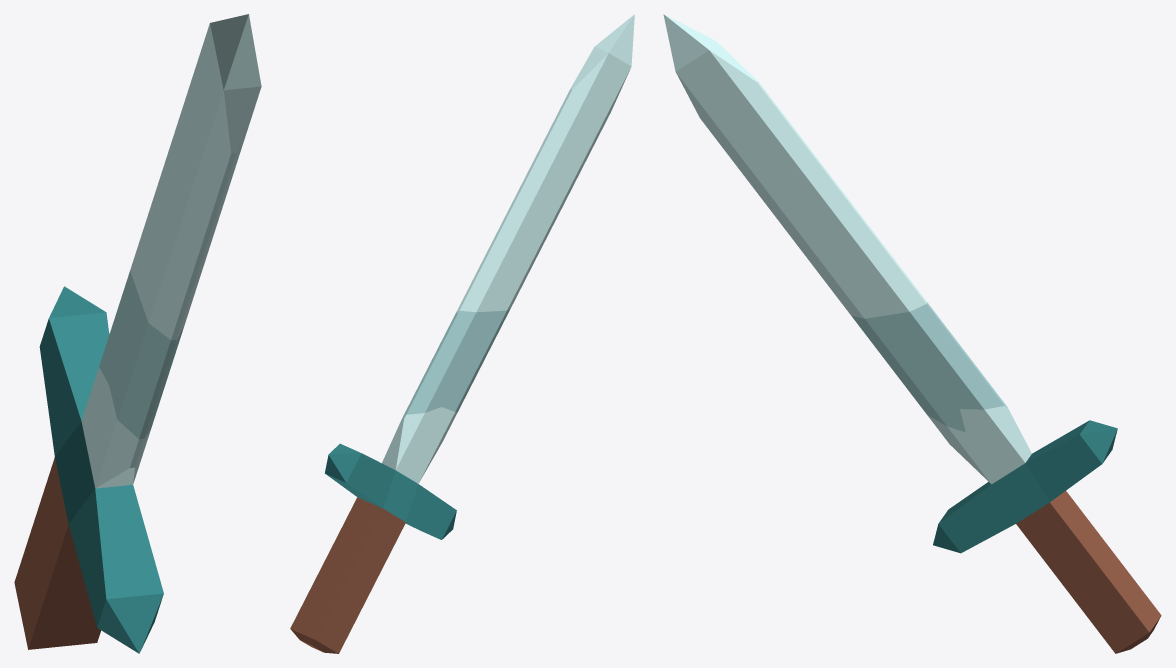
Rendered from cold_steel.glb.
The picture shows the model from 3 angles, left to right: view 1: azimuth 30°, elevation 25°; view 2: azimuth 150°, elevation 25°; view 3: azimuth 270°, elevation 25°; orthographic projection. The views are drawn at different scales.
Visible parts, largest first — view 1: Cube; view 2: Cube; view 3: Cube.
Boxes of the visible parts, x1,y1,x2,y2 form: Cube: (14,14,261,653); Cube: (290,14,634,653); Cube: (663,14,1161,653).
Size of the model in its own units: 1.06 by 3.87 by 3.04.
1 material, 1 textured.
